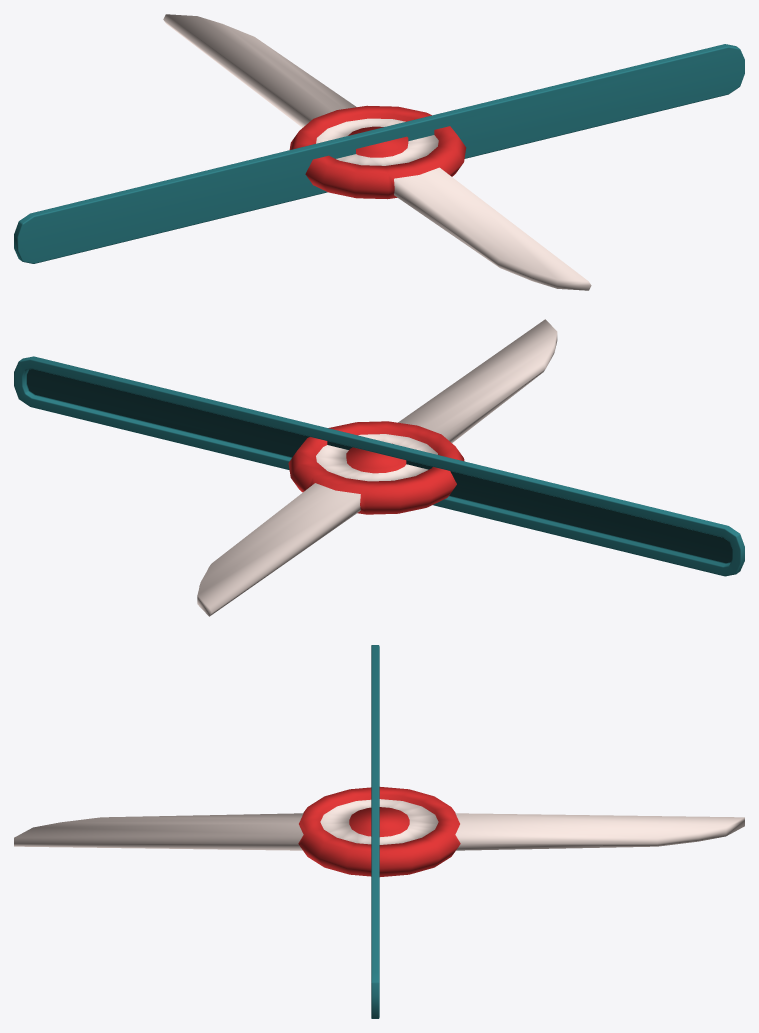
The model's file is Cutter5.fbx.
3 views of the same model, one above another, from view 1: azimuth 30°, elevation 25°; view 2: azimuth 150°, elevation 25°; view 3: azimuth 270°, elevation 25° (orthographic). The views are drawn at different scales.
Parts seen in each view (by area): view 1: Plane, Cylinder.012; view 2: Plane, Cylinder.012; view 3: Cylinder.012, Plane.
Boxes of the visible parts, box(x1,y1,x2,y2) form: Plane: box(14, 44, 744, 263); Cylinder.012: box(163, 14, 591, 290); Plane: box(14, 356, 744, 576); Cylinder.012: box(197, 319, 557, 616); Cylinder.012: box(14, 787, 744, 876); Plane: box(371, 645, 379, 1018).
Size of the model in its own units: 7.99 by 0.5037 by 7.22.
